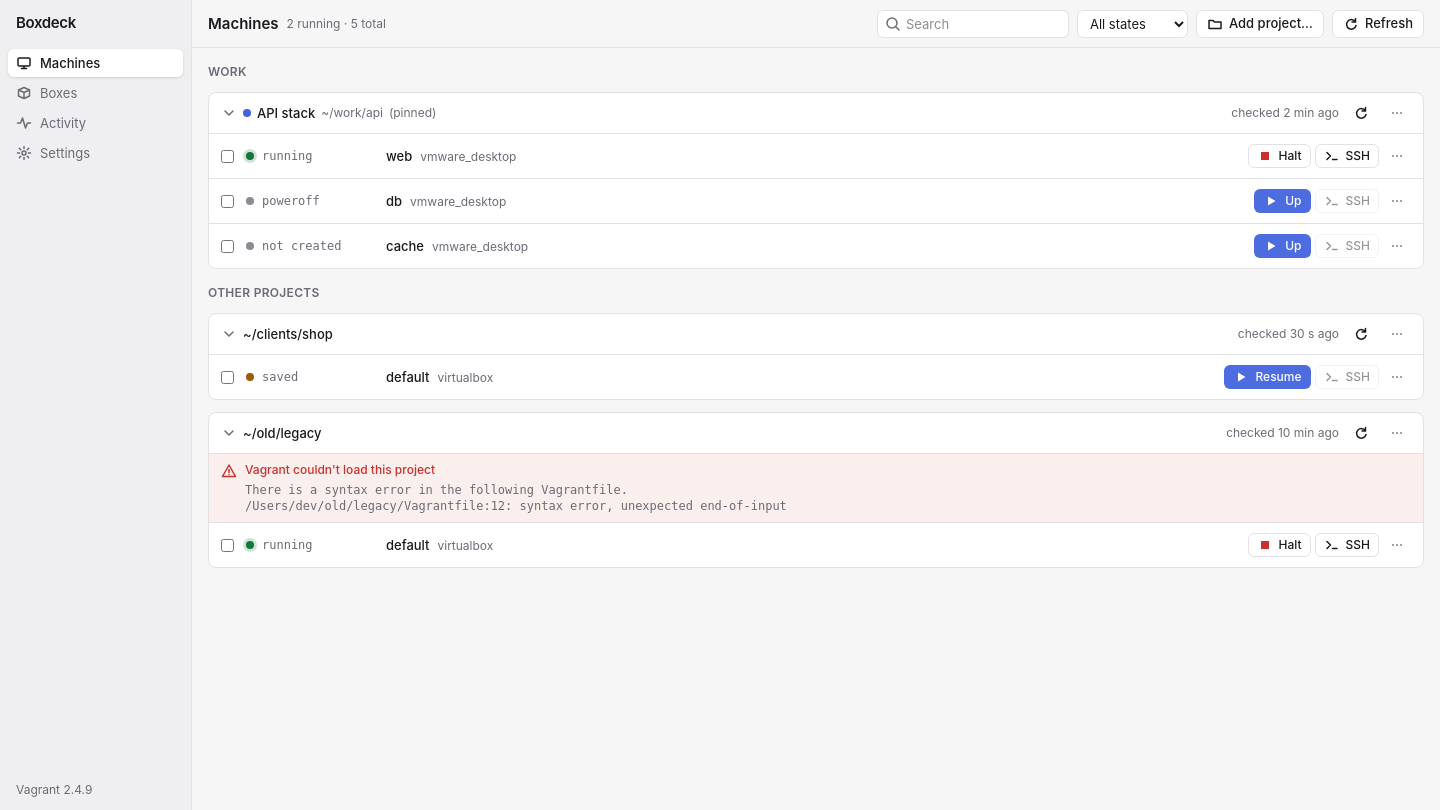
Scenario: Machines › runs an action as a job and shows it in Activity
Expected: the text "db" is shown, [386,193,402,209]
Click the button "Up" in the row of "poweroff" at (1282, 201), box [1254,189,1310,213]
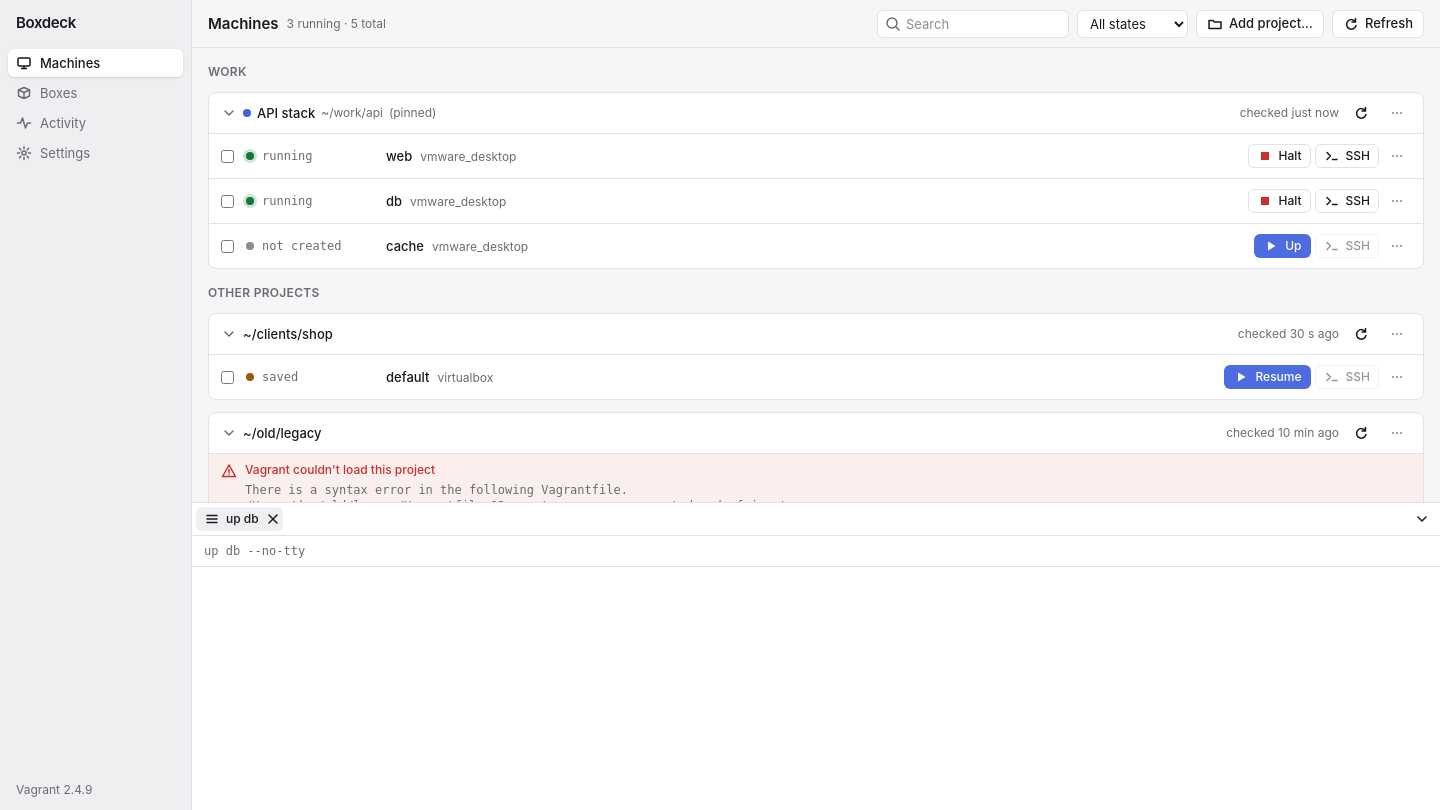
Click the button "Activity" at (96, 123), box [8,109,183,137]
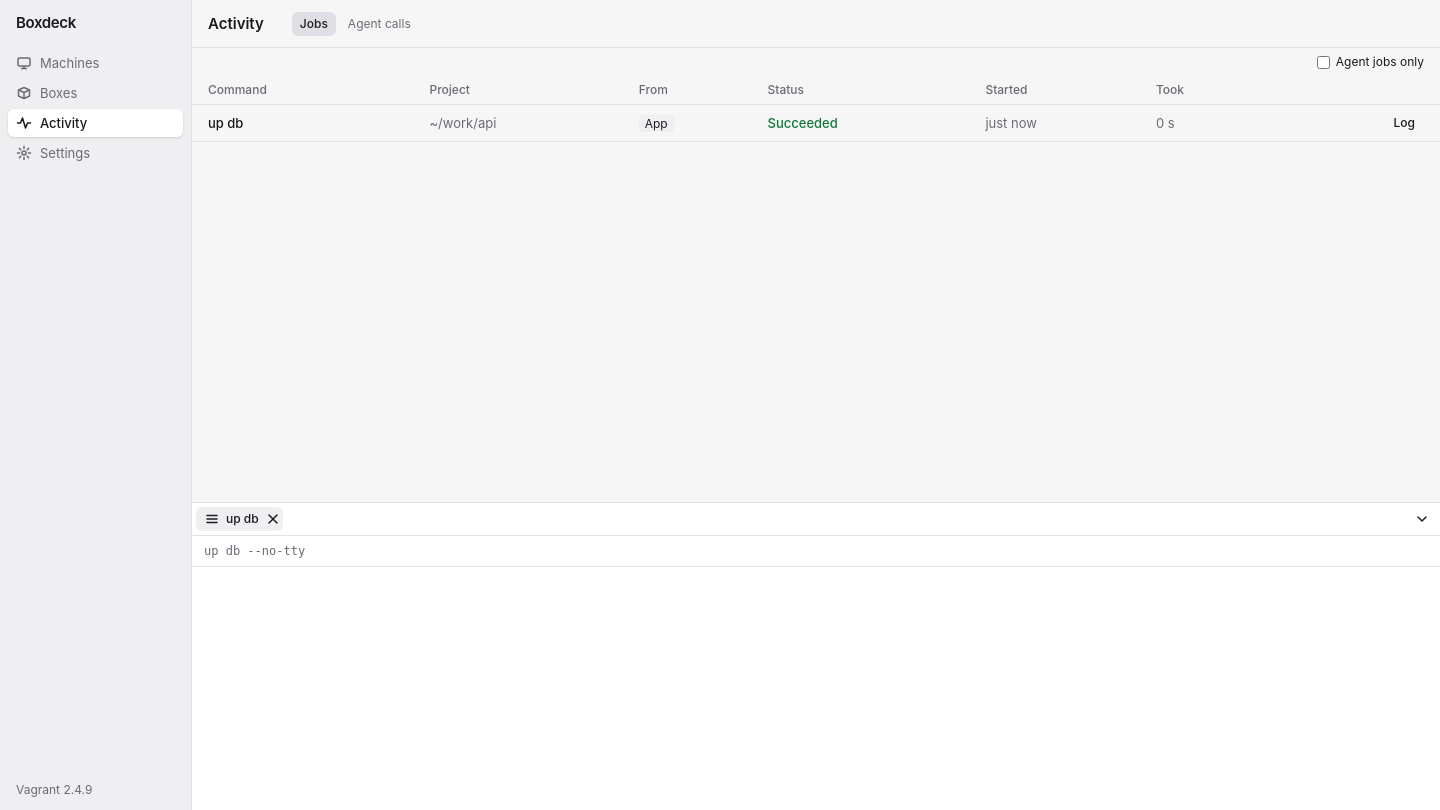
Now the tab "up db" is shown, box [196,511,259,527]
Now the text "up db" is shown, box [192,104,422,142]
Now the text "Succeeded" is shown, box [760,104,977,142]
